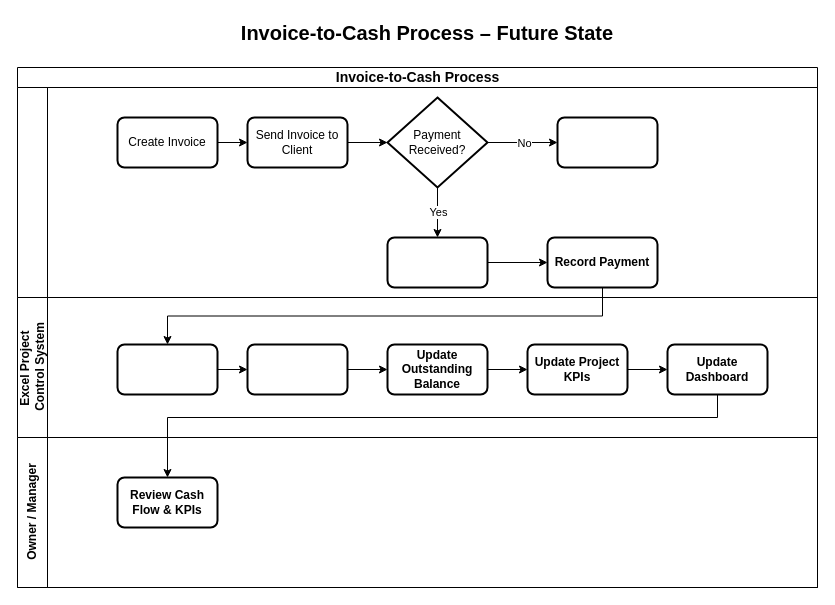
The diagram is 835 pixels wide and 605 high, and some of its shapes have lost their labels. Here are the shapes that lost their labels. From the top down, the box of each, then its label:
(556, 116, 658, 168): Invoice Remains Outstanding
(16, 86, 818, 298): Office Administrator
(386, 236, 488, 288): Receive Payment
(116, 343, 218, 395): Validate Payment Entry
(246, 343, 348, 395): Update Invoice Status
